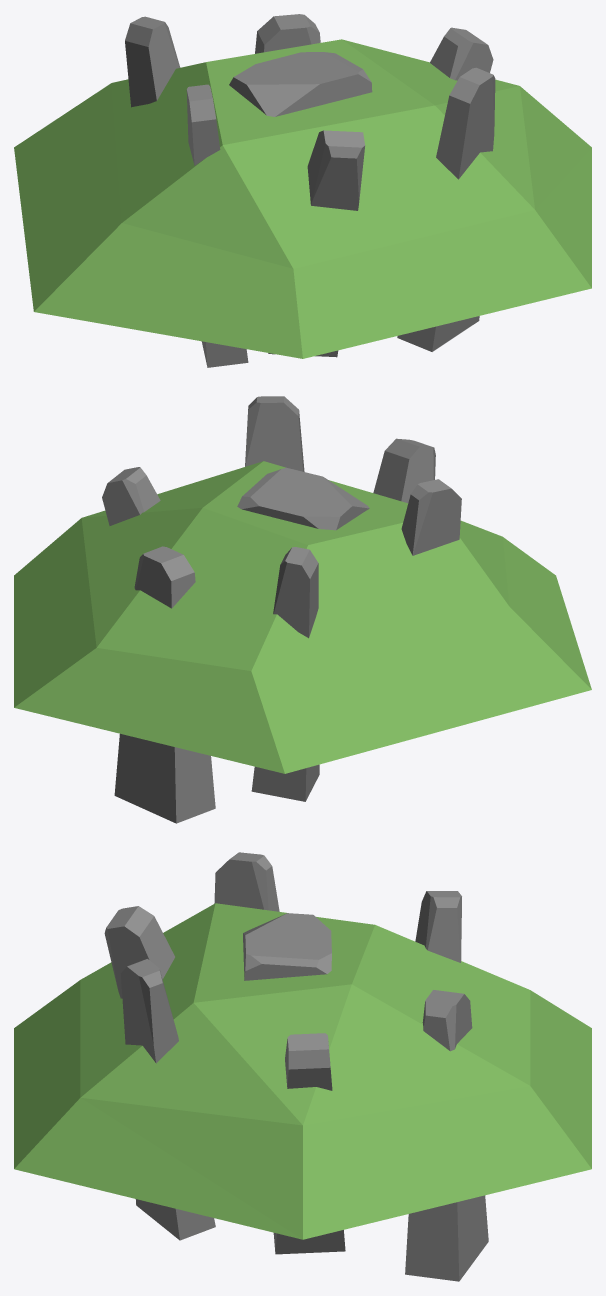
The model's file is Sanctuary.fbx.
3 renders of one model, top to bottom at view 1: azimuth 30°, elevation 25°; view 2: azimuth 150°, elevation 25°; view 3: azimuth 270°, elevation 25°, orthographic. The views are drawn at different scales.
Visible parts, largest first — view 1: Sanctuary; view 2: Sanctuary; view 3: Sanctuary.
Boxes of the visible parts, x1,y1,x2,y2 form: Sanctuary: (14, 14, 591, 367); Sanctuary: (14, 396, 591, 823); Sanctuary: (14, 852, 591, 1281).
Size of the model in its own units: 1.44 by 0.7335 by 1.23.
